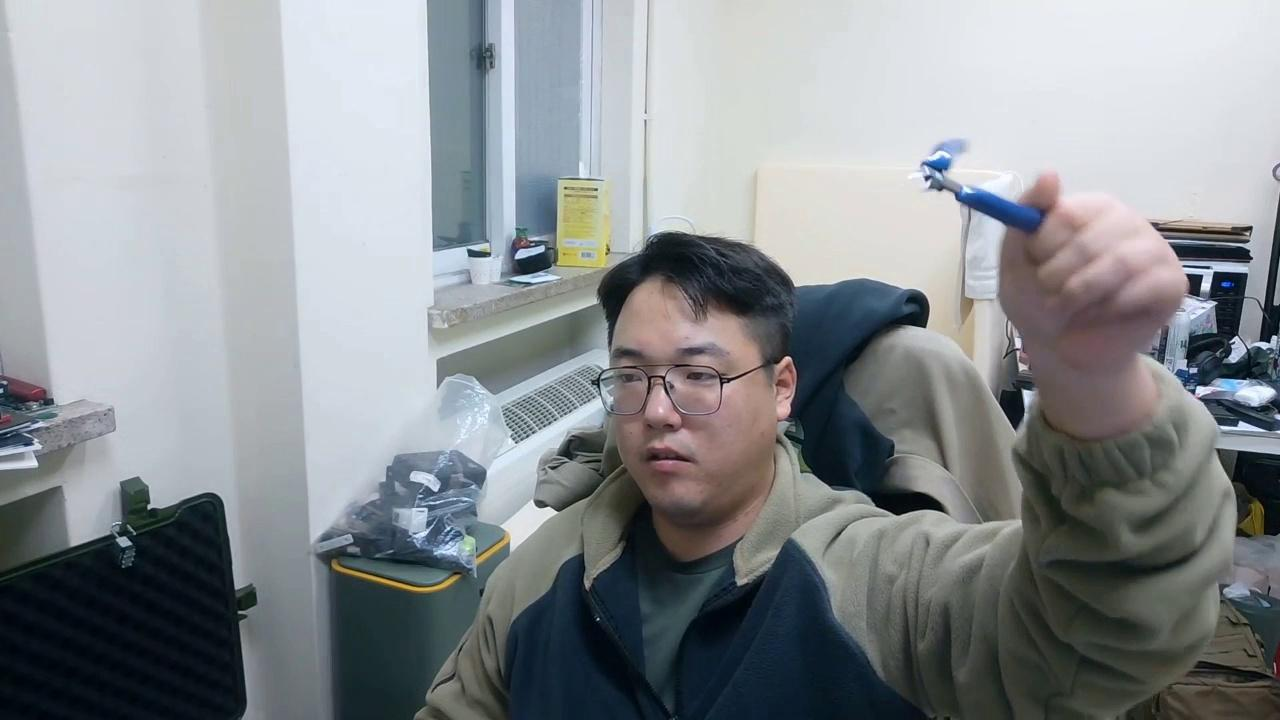blue_pliers: (911, 137, 1046, 236)
